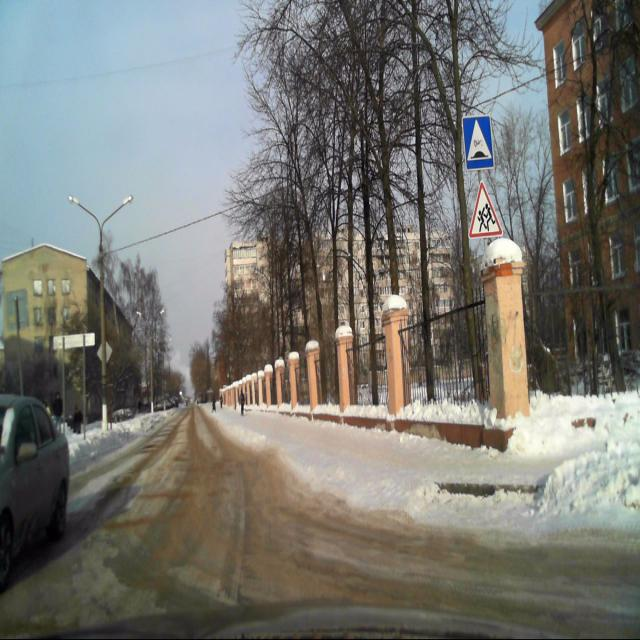road sign: (468, 182, 502, 239), (462, 116, 494, 170)
